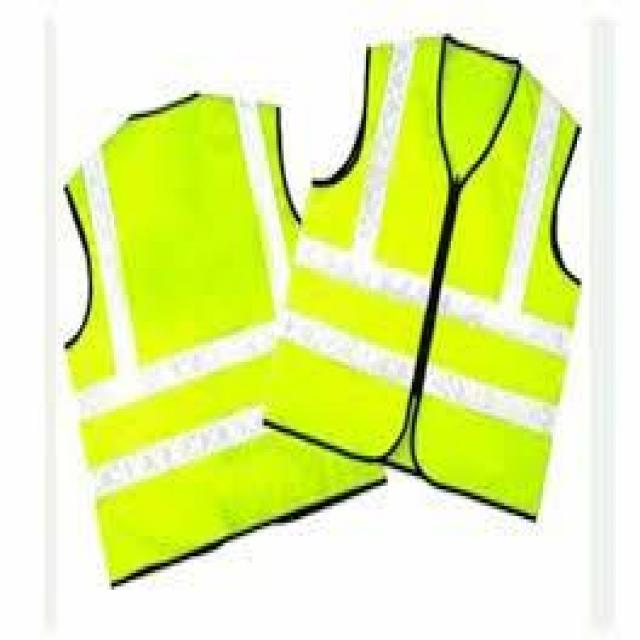Reflective-Jacket: (250, 30, 589, 528), (52, 92, 391, 590)
